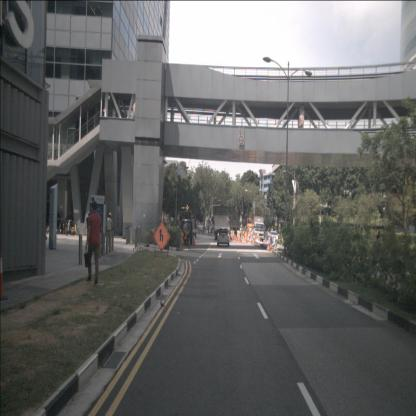human-pedestrian-adult: (84, 201, 103, 286), (86, 212, 92, 242), (376, 231, 380, 252), (59, 220, 62, 234), (62, 222, 65, 235)
movable_object-barrier: (266, 236, 274, 250), (272, 236, 278, 252), (237, 231, 242, 240)
movable_object-trafficcone: (187, 238, 191, 247), (192, 236, 196, 245), (250, 234, 253, 244), (264, 236, 267, 243), (240, 235, 243, 242), (238, 236, 241, 242), (182, 239, 184, 247), (246, 236, 248, 243)
vehicle-car: (216, 226, 231, 246), (269, 230, 279, 244)
vehicle-truck: (214, 205, 230, 240), (178, 211, 192, 242), (253, 216, 265, 243), (187, 217, 197, 238), (230, 219, 240, 236)
